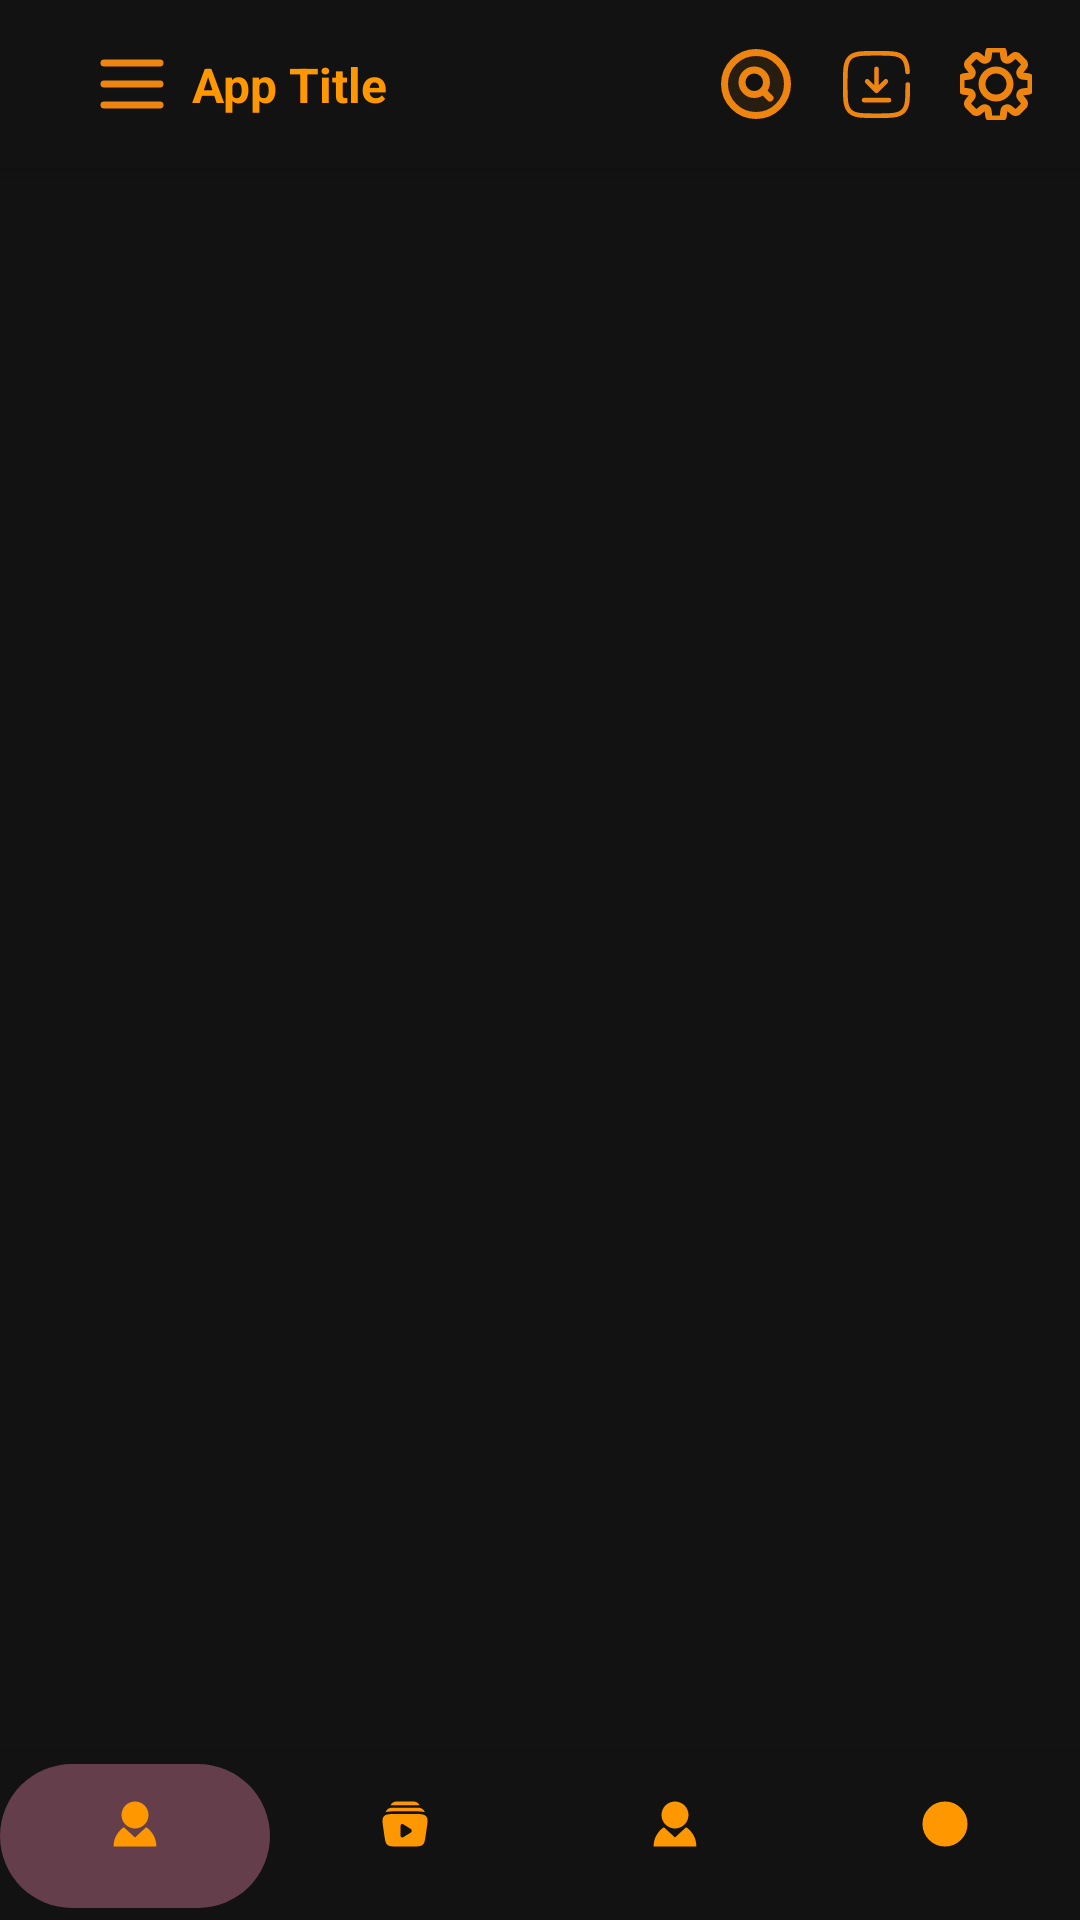

Named icons in this screenshot (1080w x 1920h) and their centers, [x,y]:
Downloads: [876,84]
Menu: [132,84]
Search: [756,84]
Settings: [996,84]
